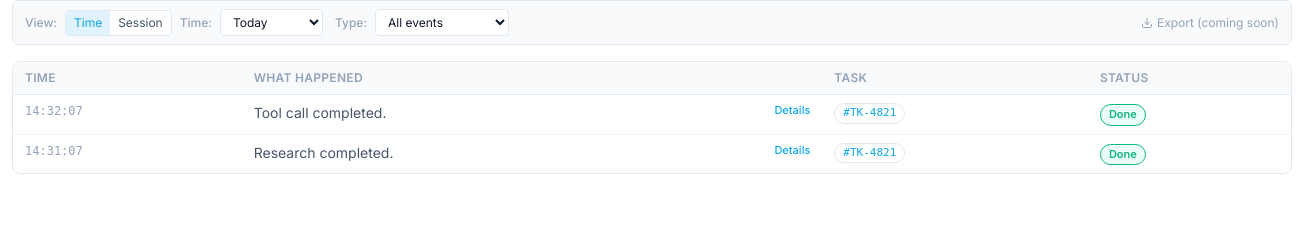
it: ActivityFeed › renders grouped session view and expands rows
This screenshot has width=1304, height=231.
Click the button with test id "activity-view-session" at (140, 22), box [110, 10, 171, 34]
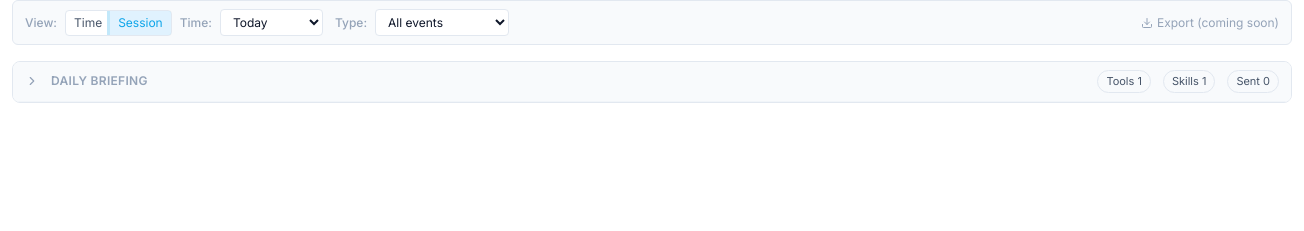
Check: the number of elements with test id "activity-session-group" is 1
Click the button with test id "activity-session-header" at (99, 81), box [13, 62, 1291, 102]
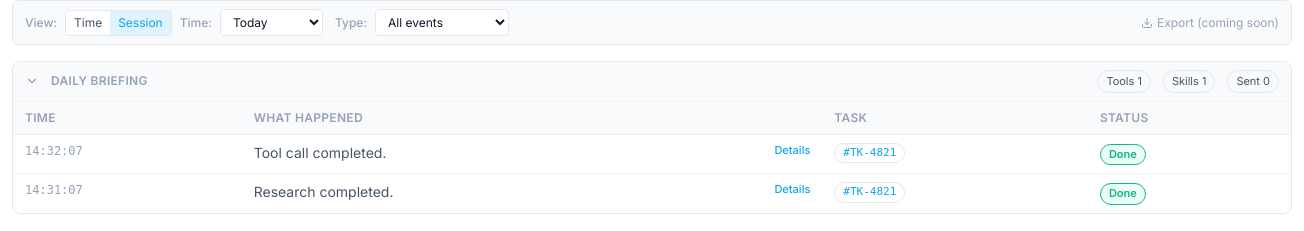
Check: the text "Daily Briefing" is shown, box [51, 73, 148, 89]
Check: the text "Tools 1" is shown, box [1097, 70, 1151, 92]
Check: the table with test id "activity-session-table" is shown, box [13, 102, 1291, 213]
